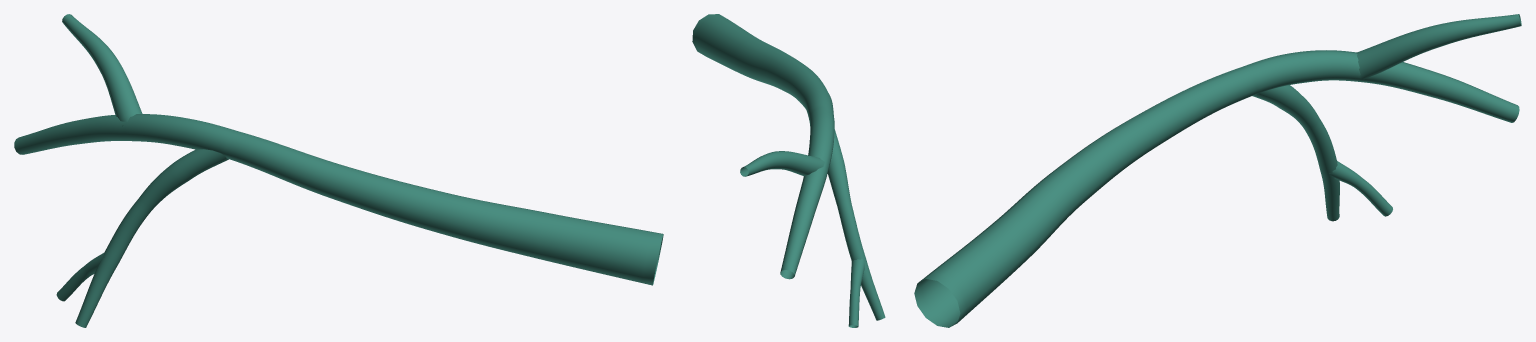
3 renders of one model, left to right at view 1: azimuth 30°, elevation 25°; view 2: azimuth 150°, elevation 25°; view 3: azimuth 270°, elevation 25°, orthographic. The views are drawn at different scales.
Parts seen in each view (by area): view 1: 右肺外侧底段支气管（第9段）; view 2: 右肺外侧底段支气管（第9段）; view 3: 右肺外侧底段支气管（第9段）.
Part boxes in pixels (<box>): 右肺外侧底段支气管（第9段）: <box>14,14,663,327</box>; 右肺外侧底段支气管（第9段）: <box>692,14,885,327</box>; 右肺外侧底段支气管（第9段）: <box>914,14,1521,327</box>.
Bounding box in the file's own units: 0.1161 × 0.0626 × 0.1418.
